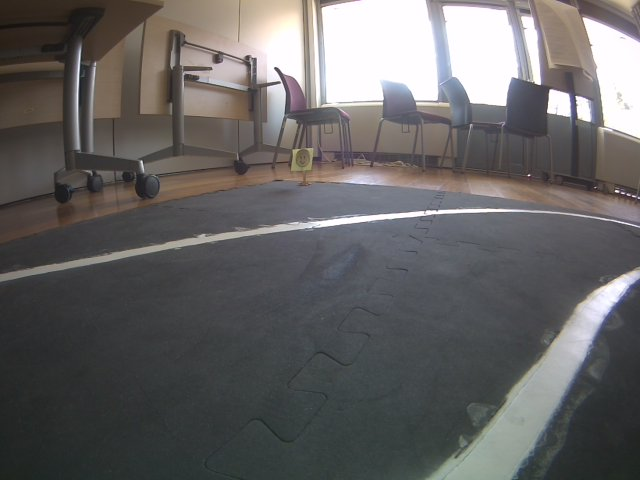Smiley: (291, 147, 313, 173)
